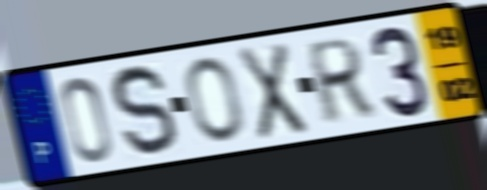0: (58, 73, 115, 166)
3: (368, 21, 429, 121)
O: (183, 54, 246, 144)
R: (306, 34, 377, 129)
S: (109, 61, 180, 161)
X: (234, 39, 310, 144)
